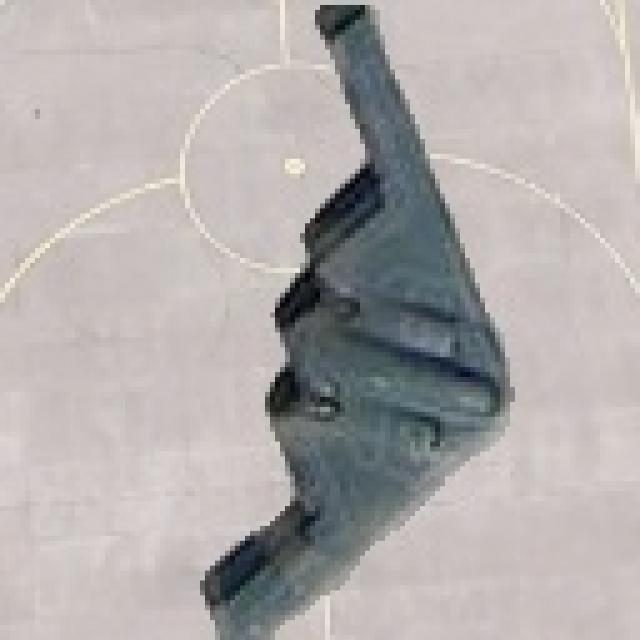B-2_TopDown: (192, 0, 526, 635)
